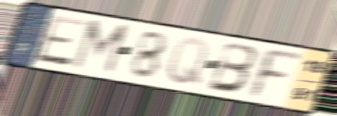8: (128, 30, 172, 80)
B: (204, 40, 261, 95)
E: (32, 14, 90, 69)
F: (247, 45, 305, 101)
M: (68, 18, 133, 78)
Q: (164, 36, 211, 89)
